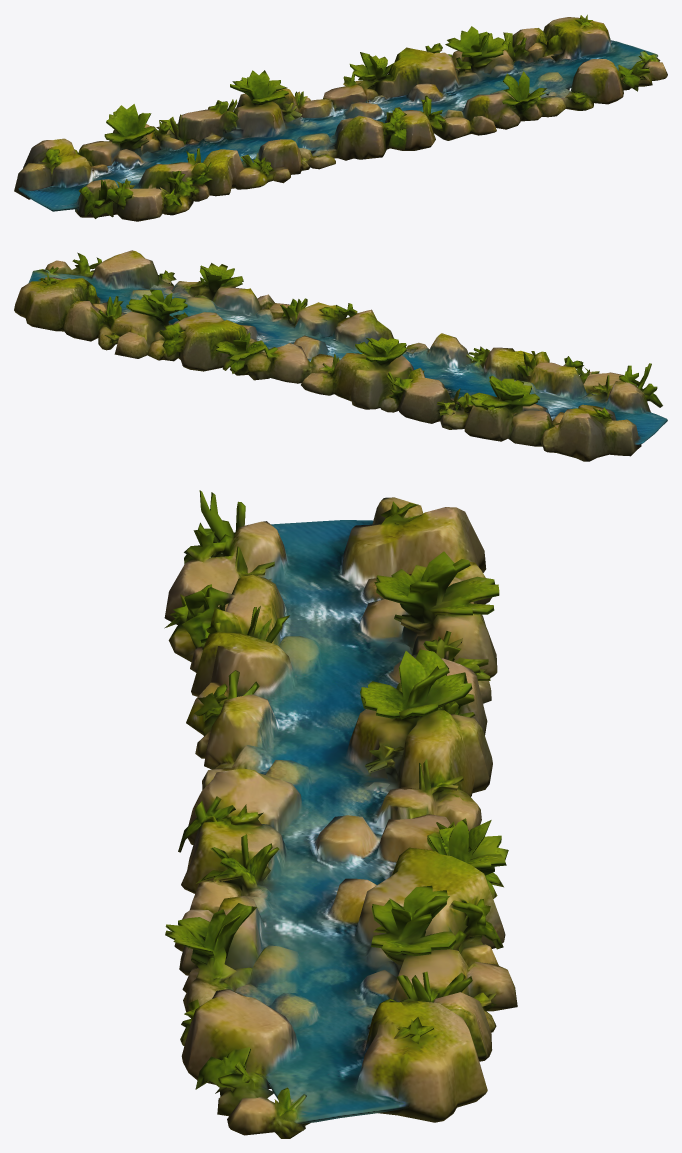
The model's file is rocky stream 3d model.glb.
3 renders of one model, top to bottom at view 1: azimuth 30°, elevation 25°; view 2: azimuth 150°, elevation 25°; view 3: azimuth 270°, elevation 25°, orthographic. The views are drawn at different scales.
Parts seen in each view (by area): view 1: tripo_node_1fc98d8d-57e9-410f-bbfc-65884aa0d7e5; view 2: tripo_node_1fc98d8d-57e9-410f-bbfc-65884aa0d7e5; view 3: tripo_node_1fc98d8d-57e9-410f-bbfc-65884aa0d7e5.
Part boxes in pixels (<box>): tripo_node_1fc98d8d-57e9-410f-bbfc-65884aa0d7e5: <box>14,14,667,221</box>; tripo_node_1fc98d8d-57e9-410f-bbfc-65884aa0d7e5: <box>14,250,667,461</box>; tripo_node_1fc98d8d-57e9-410f-bbfc-65884aa0d7e5: <box>164,490,517,1138</box>.
Size of the model in its own units: 1 by 0.0923 by 0.2476.
1 material, 1 textured.
